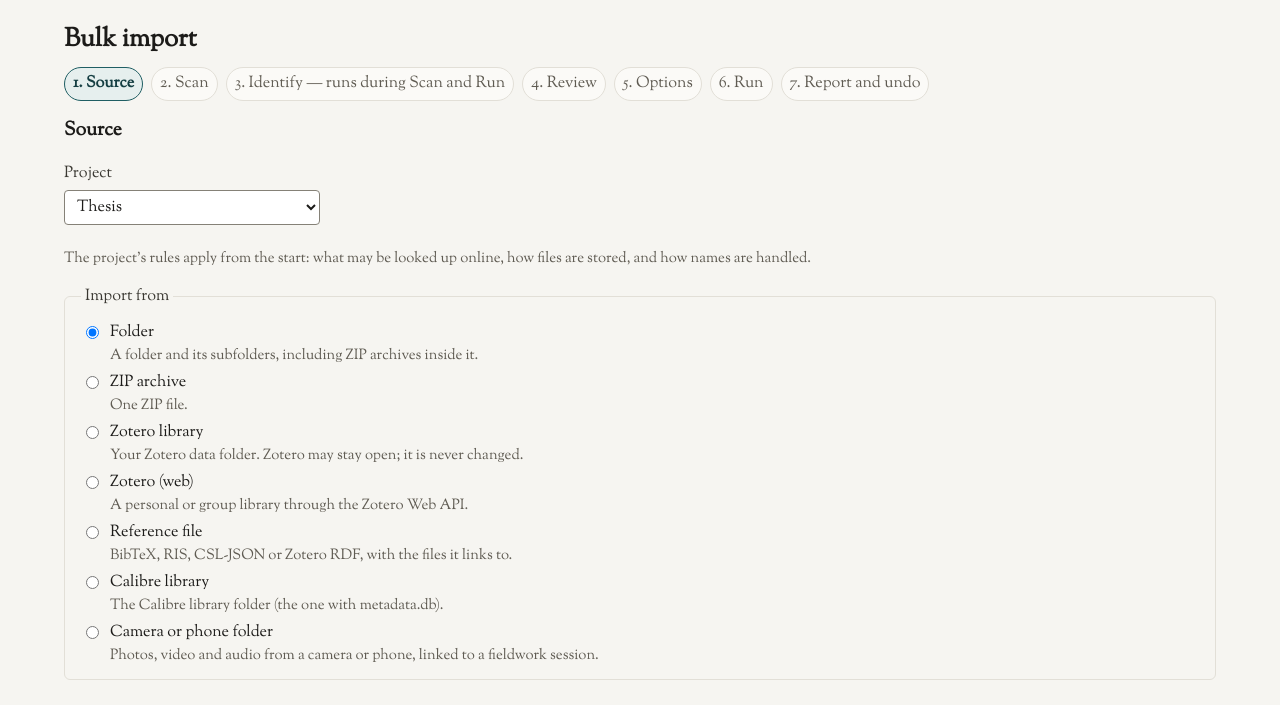
Test case: the import wizard's path fields in the desktop shell (D12) › Folder: the picker fills “Folder path”, and Scan sends that path
Click the radio button labelled "Folder" at (92, 332), box [86, 326, 99, 338]
(page scrolled)
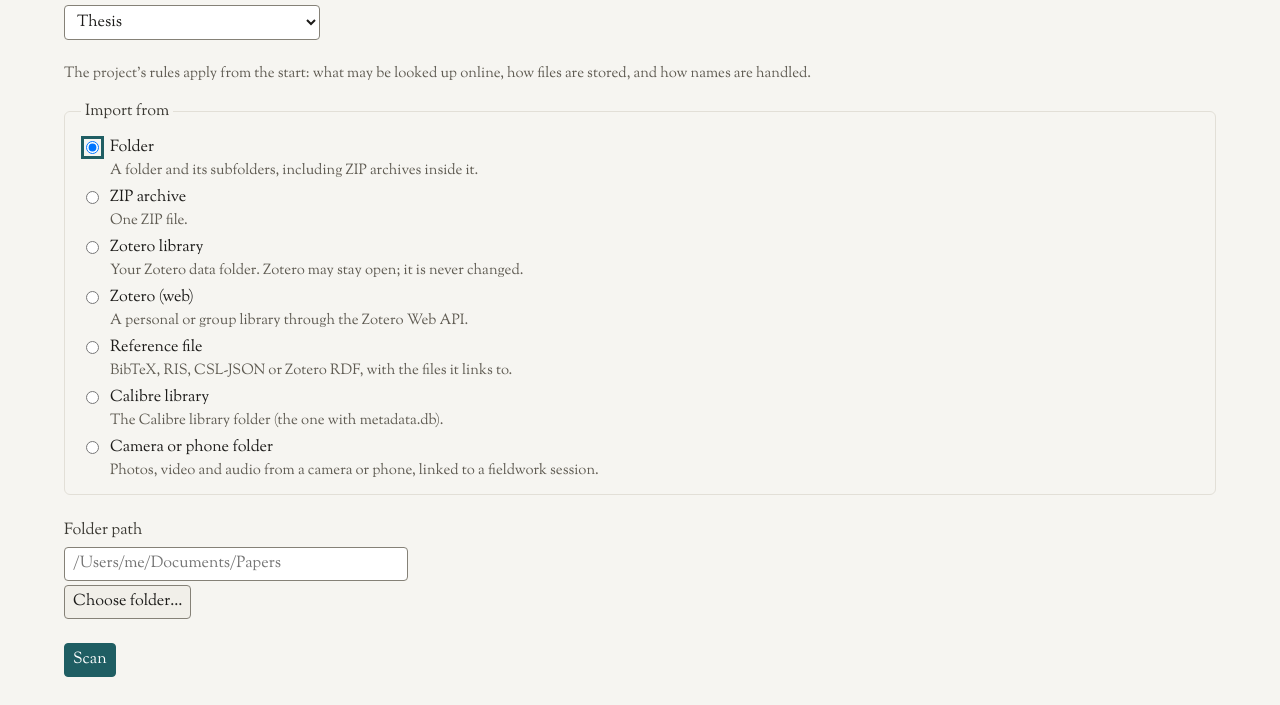
Click the button "Choose folder…" at (128, 602), box [64, 585, 191, 619]
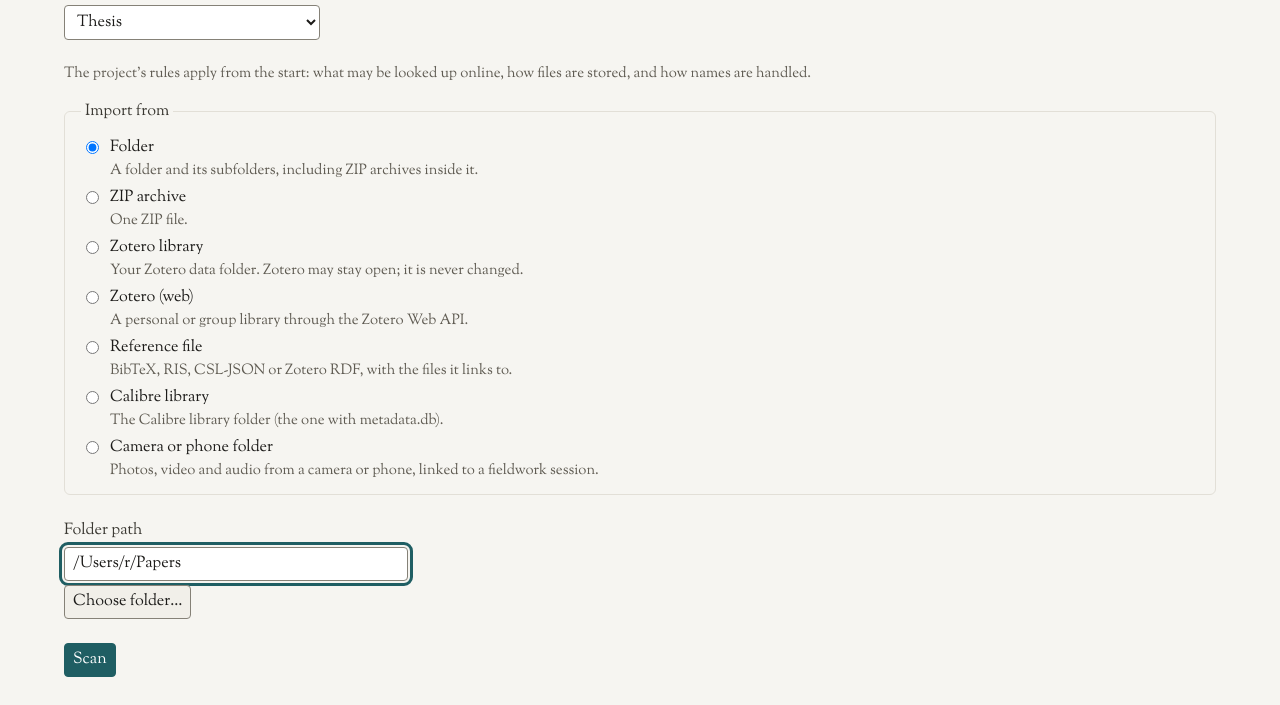
Check: the field labelled "Folder path" holds "/Users/r/Papers", box [64, 547, 408, 581]
Click the button "Scan" at (90, 660), box [64, 643, 116, 677]
(page scrolled)
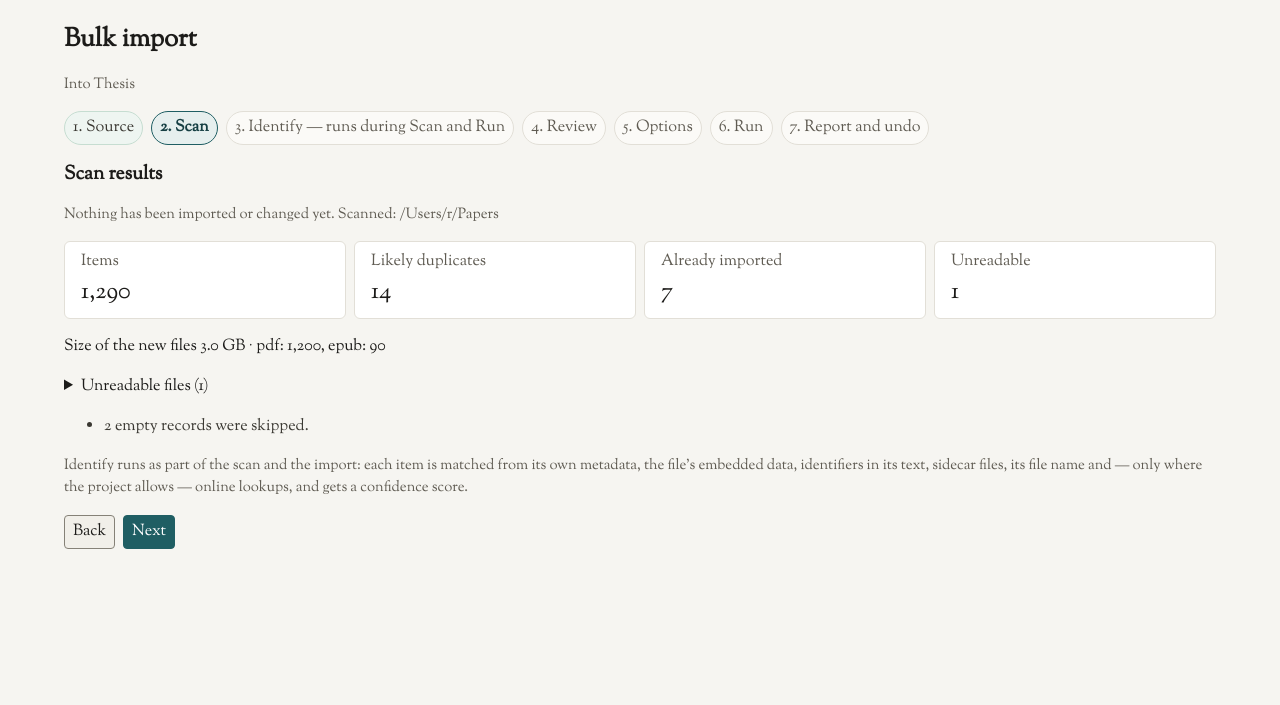
Check: the heading "Scan results" is shown, box [64, 161, 162, 188]
